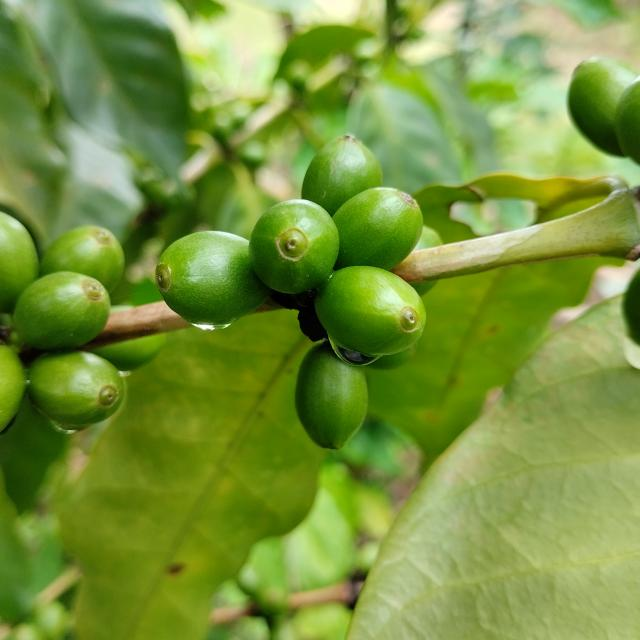green: (155, 231, 270, 329), (315, 266, 426, 357), (249, 199, 340, 294), (295, 341, 368, 450), (12, 271, 110, 350), (27, 351, 124, 430), (333, 187, 424, 270), (569, 56, 639, 155), (302, 134, 382, 216), (39, 225, 124, 292), (0, 211, 38, 313), (0, 345, 25, 432), (617, 75, 640, 163)
